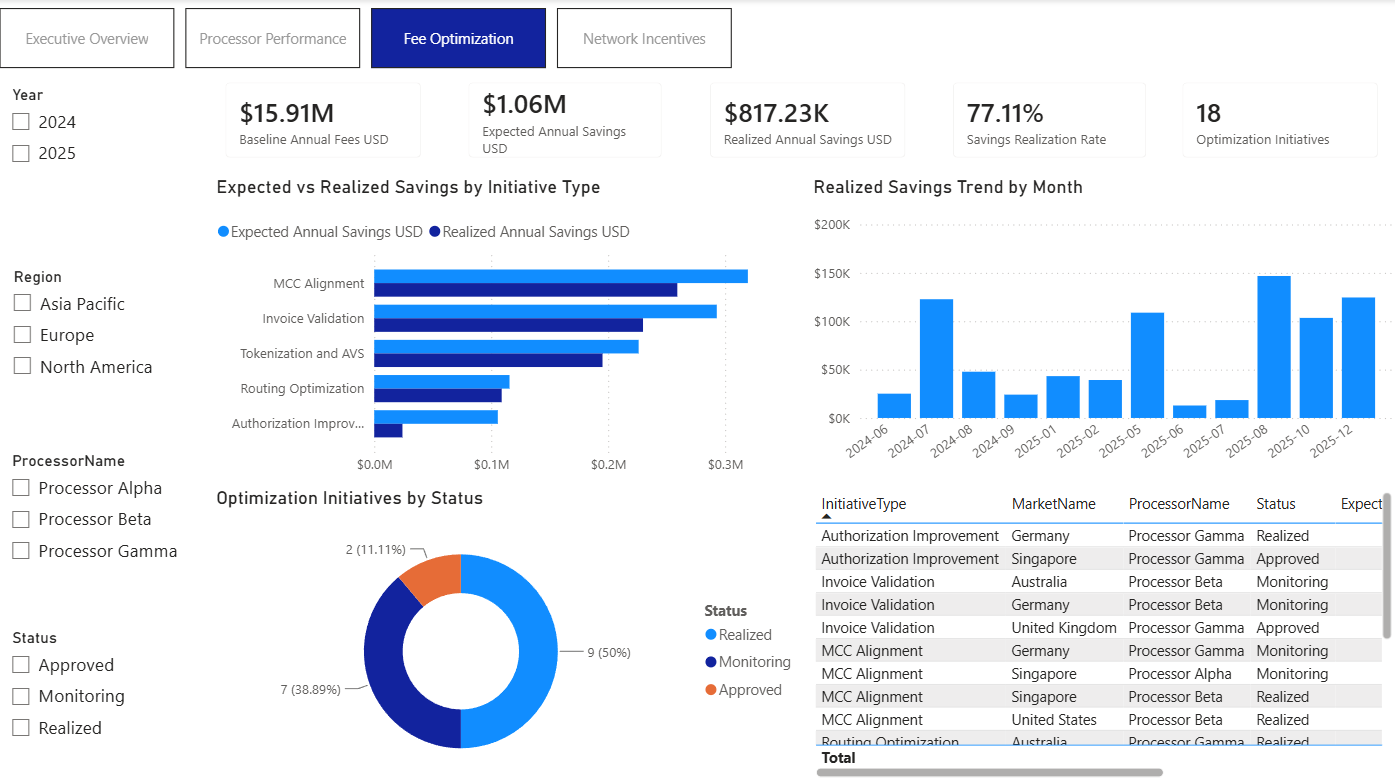

Layout of this report page (visuals, bound fields, positions):
{"tool":"powerbi","page":{"name":"Fee Optimization","canvas":[1280,720],"ordinal":2},"visuals":[{"type":"slicer","fields":{"Values":["DimMarket.Region"]},"box":[1.5,240.8,193.5,149.3],"z":0},{"type":"slicer","fields":{"Values":["DimProcessor.ProcessorName"]},"box":[0,408.4,195,149.3],"z":1000},{"type":"slicer","fields":{"Values":["FactOptimization.Status"]},"box":[0,571.4,195,149.3],"z":2000},{"type":"cardVisual","fields":{"Data":["AllMeasures.Baseline Annual Fees USD"]},"box":[190.5,59.4,213.3,103.6],"z":3000},{"type":"cardVisual","fields":{"Data":["AllMeasures.Expected Annual Savings USD"]},"box":[413,59.4,211.8,103.6],"z":4000},{"type":"cardVisual","fields":{"Data":["AllMeasures.Realized Annual Savings USD"]},"box":[633.9,59.4,213.3,103.6],"z":5000},{"type":"cardVisual","fields":{"Data":["AllMeasures.Savings Realization Rate"]},"box":[856.4,59.4,211.8,103.6],"z":6000},{"type":"cardVisual","fields":{"Data":["AllMeasures.Optimization Initiatives"]},"box":[1066.7,59.4,213.3,103.6],"z":7000},{"type":"clusteredBarChart","title":"Expected vs Realized Savings by Initiative Type","fields":{"Category":["FactOptimization.InitiativeType"],"Y":["AllMeasures.Expected Annual Savings USD","AllMeasures.Realized Annual Savings USD"]},"box":[195,162.5,545.5,281.9],"z":8000},{"type":"columnChart","title":"Realized Savings Trend by Month","fields":{"Category":["DimDate.Year Month"],"Y":["AllMeasures.Realized Annual Savings USD"]},"box":[740.6,162.5,539.4,280.4],"z":9000},{"type":"donutChart","fields":{"Category":["FactOptimization.Status"],"Y":["AllMeasures.Optimization Initiatives"]},"box":[195,446.5,545.5,271.2],"z":10000},{"type":"tableEx","fields":{"Values":["FactOptimization.InitiativeType","DimMarket.MarketName","DimProcessor.ProcessorName","FactOptimization.Status","AllMeasures.Expected Annual Savings USD","AllMeasures.Realized Annual Savings USD"]},"box":[742.1,446.5,537.9,271.2],"z":11000},{"type":"slicer","fields":{"Values":["DimDate.Year"]},"box":[0,74.7,195,149.3],"z":12000},{"type":"pageNavigator","box":[1.9,7.7,672.1,55.8],"z":13000}]}

Visuals, with their boxes in screenshot pixels (x1, y1, x2, y2), scaled from the page's 1280x720 canvas onto the 1395x781 screenshot:
slicer - DimMarket.Region: region(2, 261, 213, 423)
slicer - DimProcessor.ProcessorName: region(0, 443, 213, 605)
slicer - FactOptimization.Status: region(0, 620, 213, 780)
cardVisual - AllMeasures.Baseline Annual Fees USD: region(208, 64, 440, 177)
cardVisual - AllMeasures.Expected Annual Savings USD: region(450, 64, 681, 177)
cardVisual - AllMeasures.Realized Annual Savings USD: region(691, 64, 923, 177)
cardVisual - AllMeasures.Savings Realization Rate: region(933, 64, 1164, 177)
cardVisual - AllMeasures.Optimization Initiatives: region(1163, 64, 1394, 177)
"Expected vs Realized Savings by Initiative Type" clusteredBarChart: region(213, 176, 807, 482)
"Realized Savings Trend by Month" columnChart: region(807, 176, 1394, 480)
donutChart - FactOptimization.Status x AllMeasures.Optimization Initiatives: region(213, 484, 807, 779)
tableEx - FactOptimization.InitiativeType x DimMarket.MarketName: region(809, 484, 1394, 779)
slicer - DimDate.Year: region(0, 81, 213, 243)
pageNavigator: region(2, 8, 735, 69)
